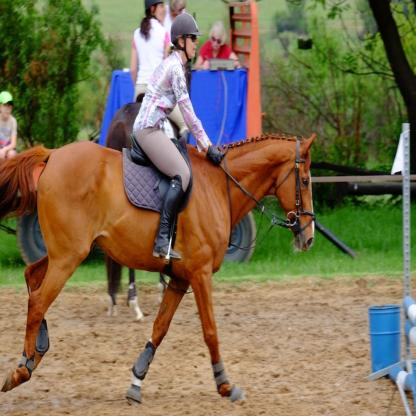Helmet: (170, 10, 198, 56)
